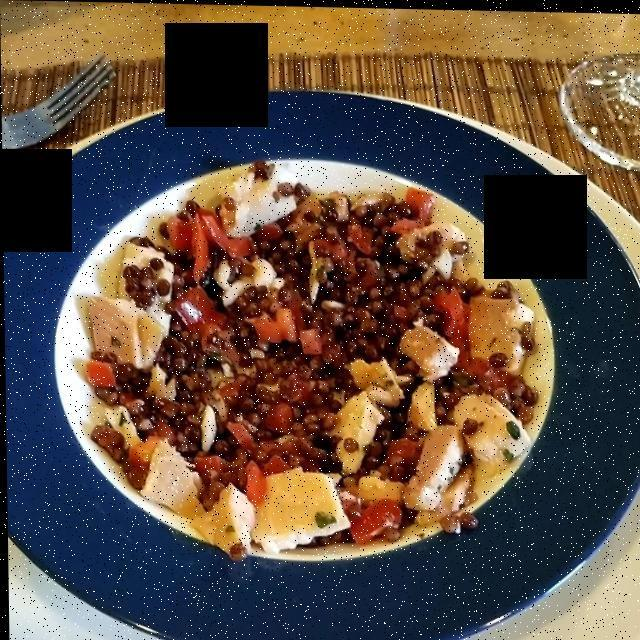lentils: (99, 202, 535, 493)
tomato: (174, 196, 470, 541)
